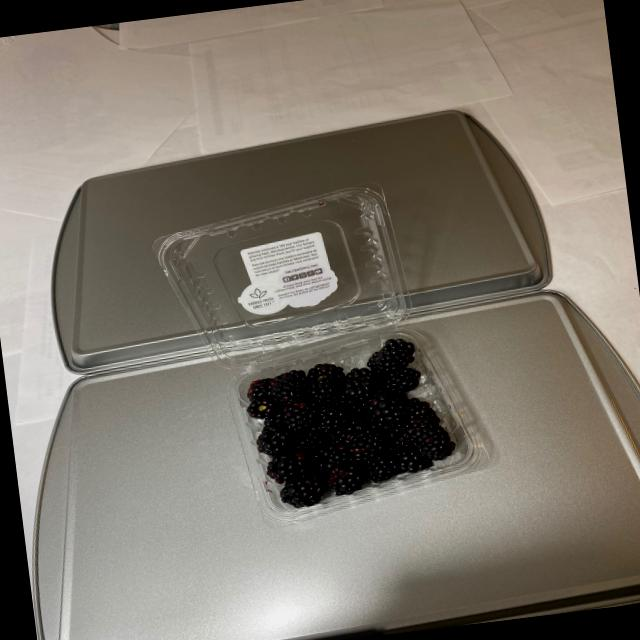blackberries: (244, 332, 435, 514)
